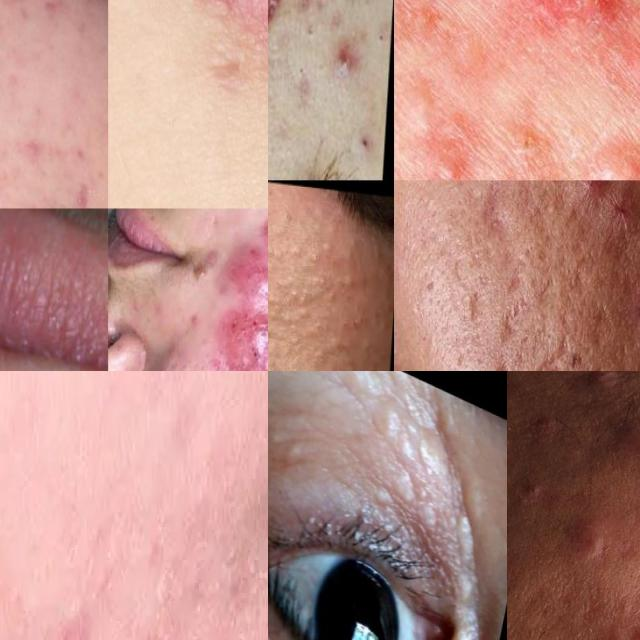acne_scars: (495, 263, 536, 348), (576, 296, 623, 356), (476, 180, 518, 242), (457, 272, 492, 331), (59, 166, 108, 208), (64, 130, 106, 167), (268, 0, 283, 46)
comedone: (507, 467, 557, 516), (284, 46, 320, 97), (268, 180, 302, 231), (335, 304, 370, 341), (299, 0, 329, 40), (370, 9, 387, 65), (526, 353, 576, 371), (333, 266, 362, 292), (507, 418, 525, 459), (318, 230, 340, 256), (296, 358, 320, 371)
cystic: (560, 509, 615, 572), (579, 134, 640, 180), (575, 371, 634, 397), (567, 180, 605, 210)
keloid: (139, 0, 268, 147)
papule: (579, 180, 640, 283), (551, 610, 640, 640), (16, 117, 50, 176)
sebo-crystan-conglo: (513, 0, 628, 42), (227, 208, 268, 322)
syringoma: (360, 444, 449, 530)
